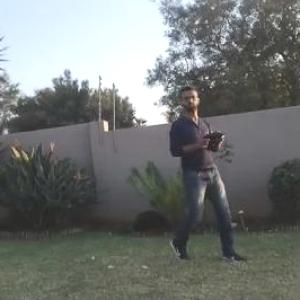follow: (166, 74, 251, 264)
